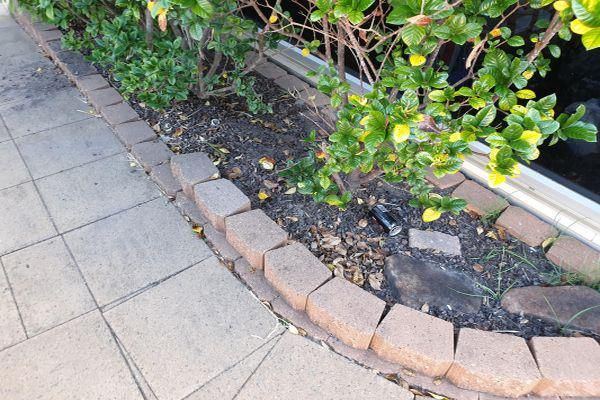Plastic Bottle: (368, 204, 402, 236)
